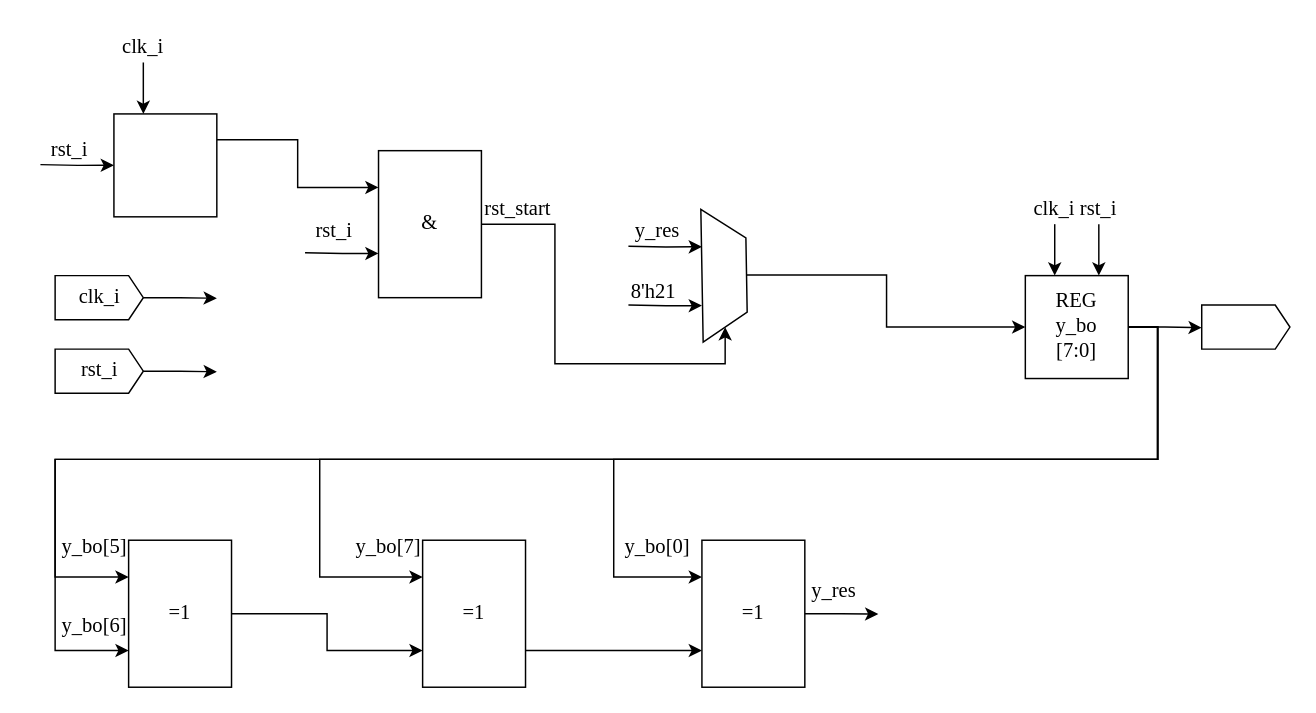
This 1316x713 diagram has some shape labels left out. Here are the shapes that lost their labels. From the top down, the centre of each, then its label:
the point at 164,164: REG rst_delay
the point at 1245,326: y_bo
